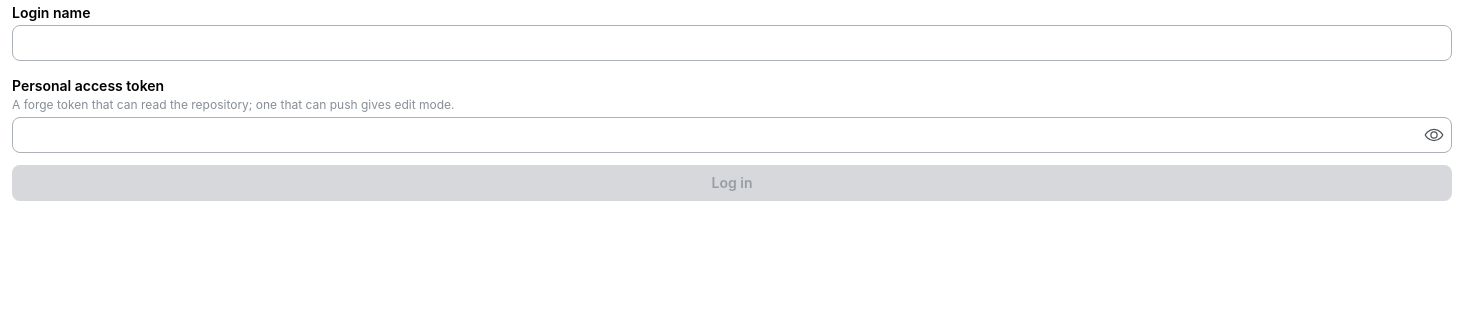
Test case: LoginForm › explains a refused token and keeps the form
Type "alice" into the field labelled "Login name".
click(732, 43); type("alice")  # box [12,25,1452,61]
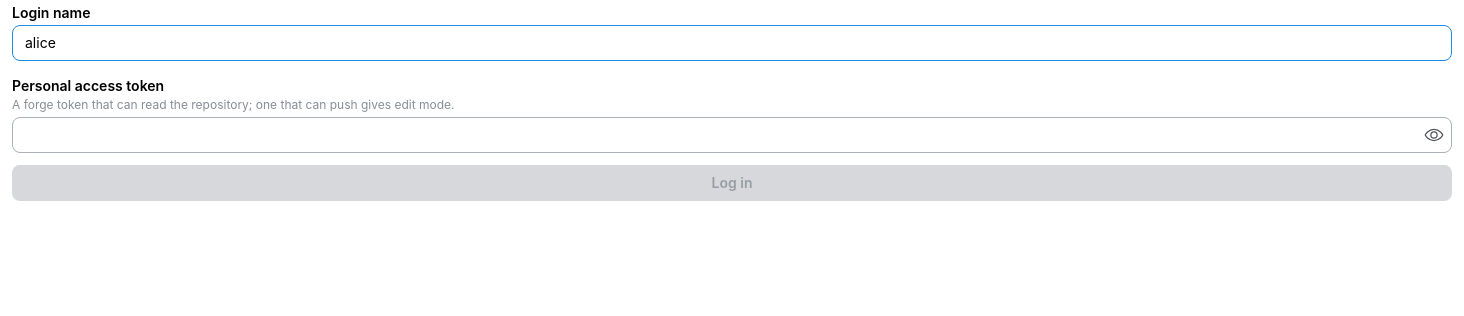
Type "tok-123" into the password field labelled "Personal access token".
click(732, 135); type("tok-123")  # box [13,118,1451,152]
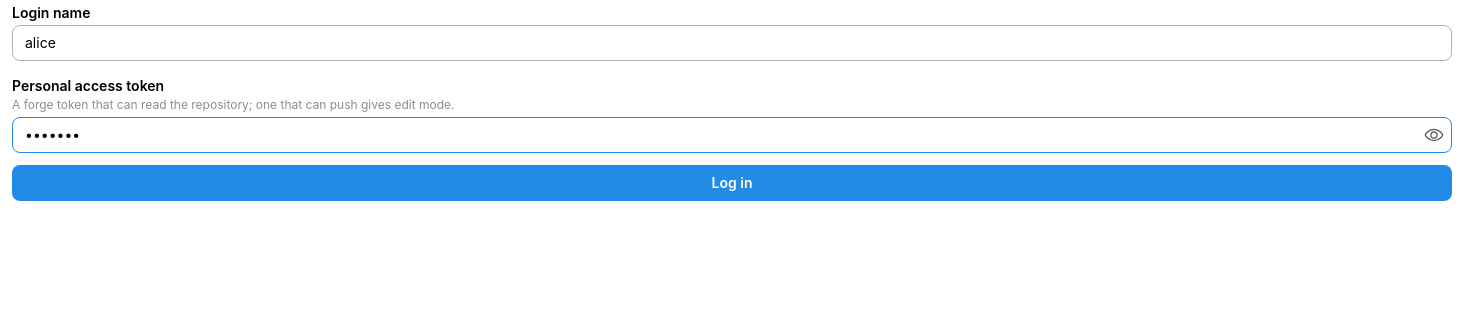
Click the button "Log in".
click(732, 183)  # box [12,165,1452,201]
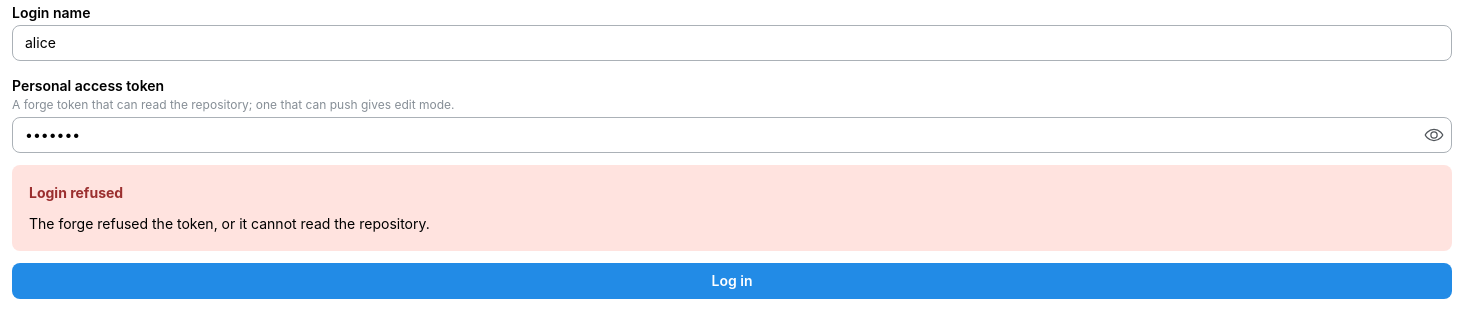
Result: the text "refused the token" is shown at [29,215,430,232]
